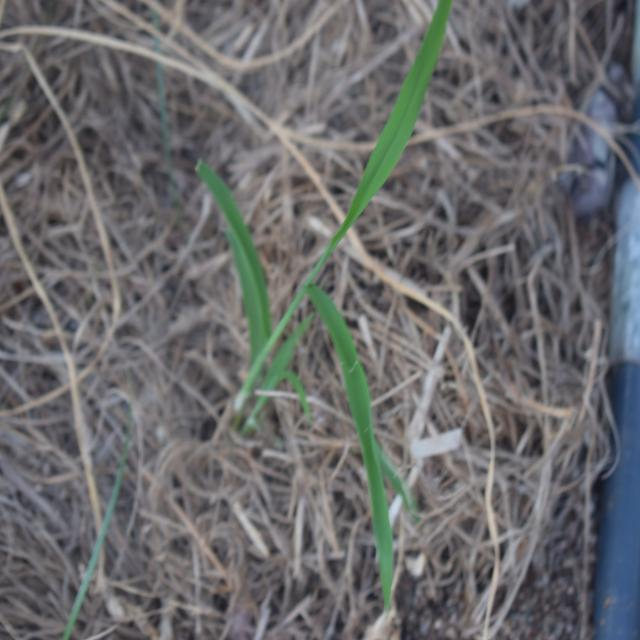crabgrass: (203, 19, 453, 569)
